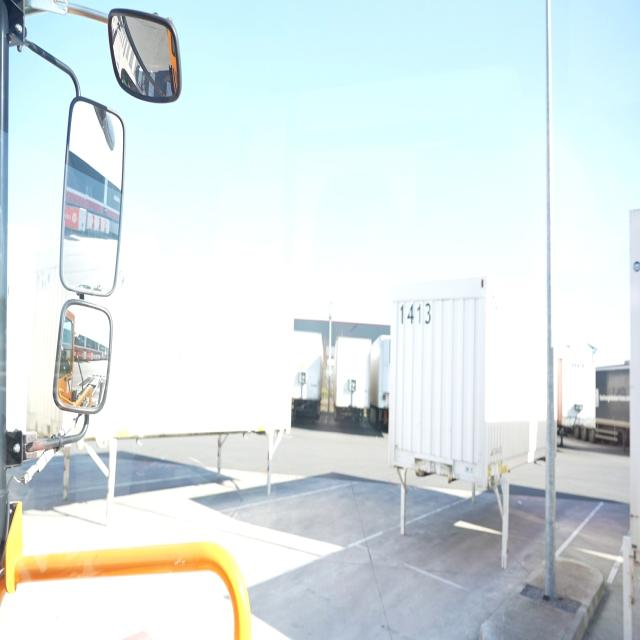Code: (398, 296, 432, 328)
